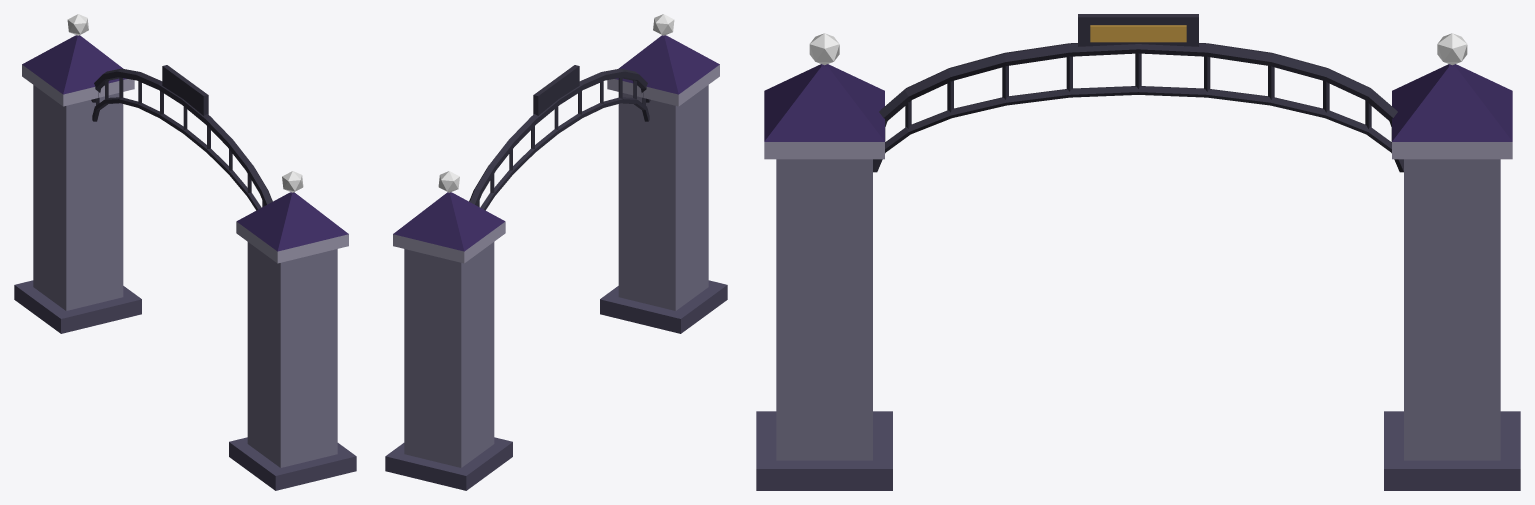
The model's file is Set_Gate.fbx.
3 renders of one model, left to right at view 1: azimuth 30°, elevation 25°; view 2: azimuth 150°, elevation 25°; view 3: azimuth 270°, elevation 25°, orthographic. The views are drawn at different scales.
Parts seen in each view (by area): view 1: Set_Gate; view 2: Set_Gate; view 3: Set_Gate.
Part boxes in pixels (bbox=[...]): Set_Gate: bbox=[14, 14, 356, 490]; Set_Gate: bbox=[385, 14, 727, 490]; Set_Gate: bbox=[756, 14, 1520, 490].
Size of what is drawn, in the model's own units: 1.7 by 6.12 by 9.5.
Materials: 2 (1 with a texture image).
